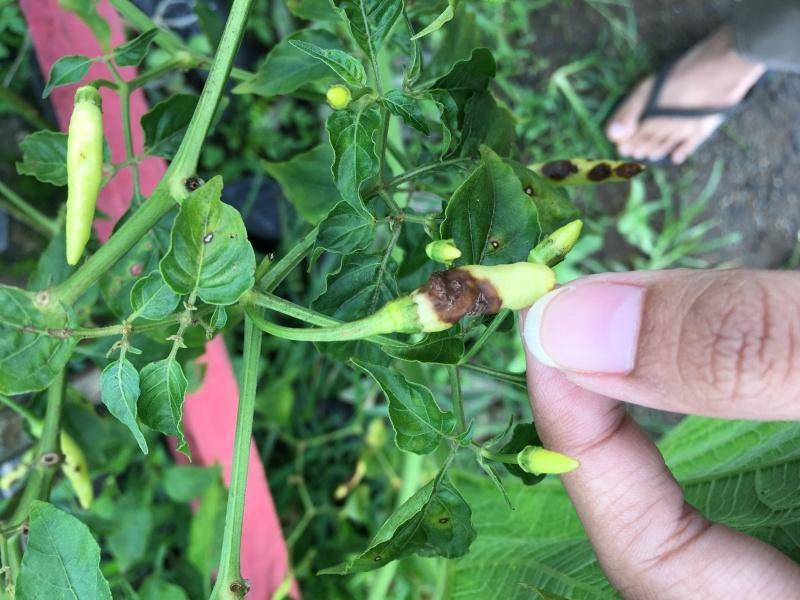antraknosa: (414, 260, 558, 331), (528, 156, 648, 186)
cabai_normal: (56, 89, 124, 272)
